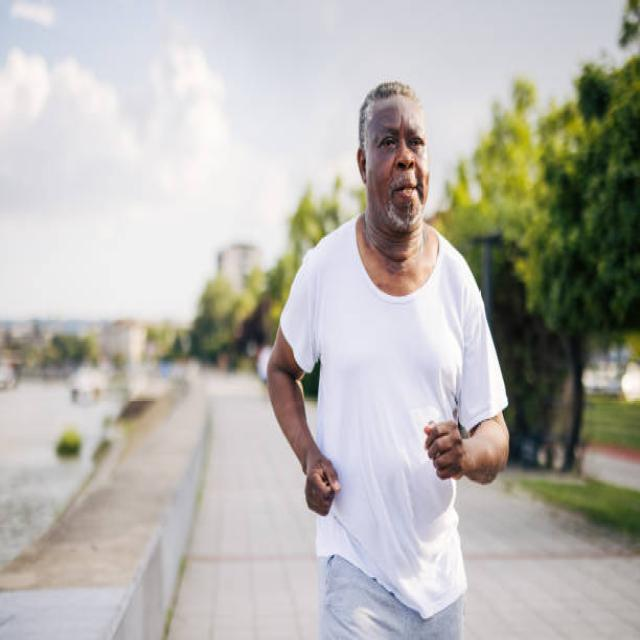Real human 2: (251, 67, 535, 640)
